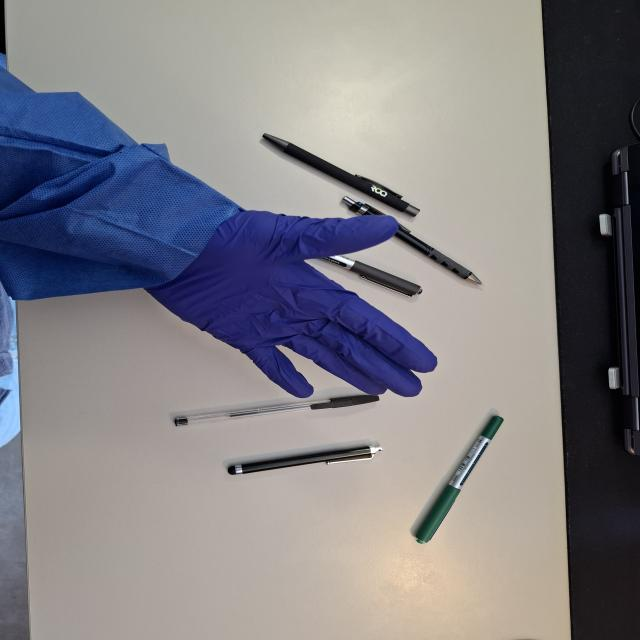glove_on: (142, 206, 441, 400)
